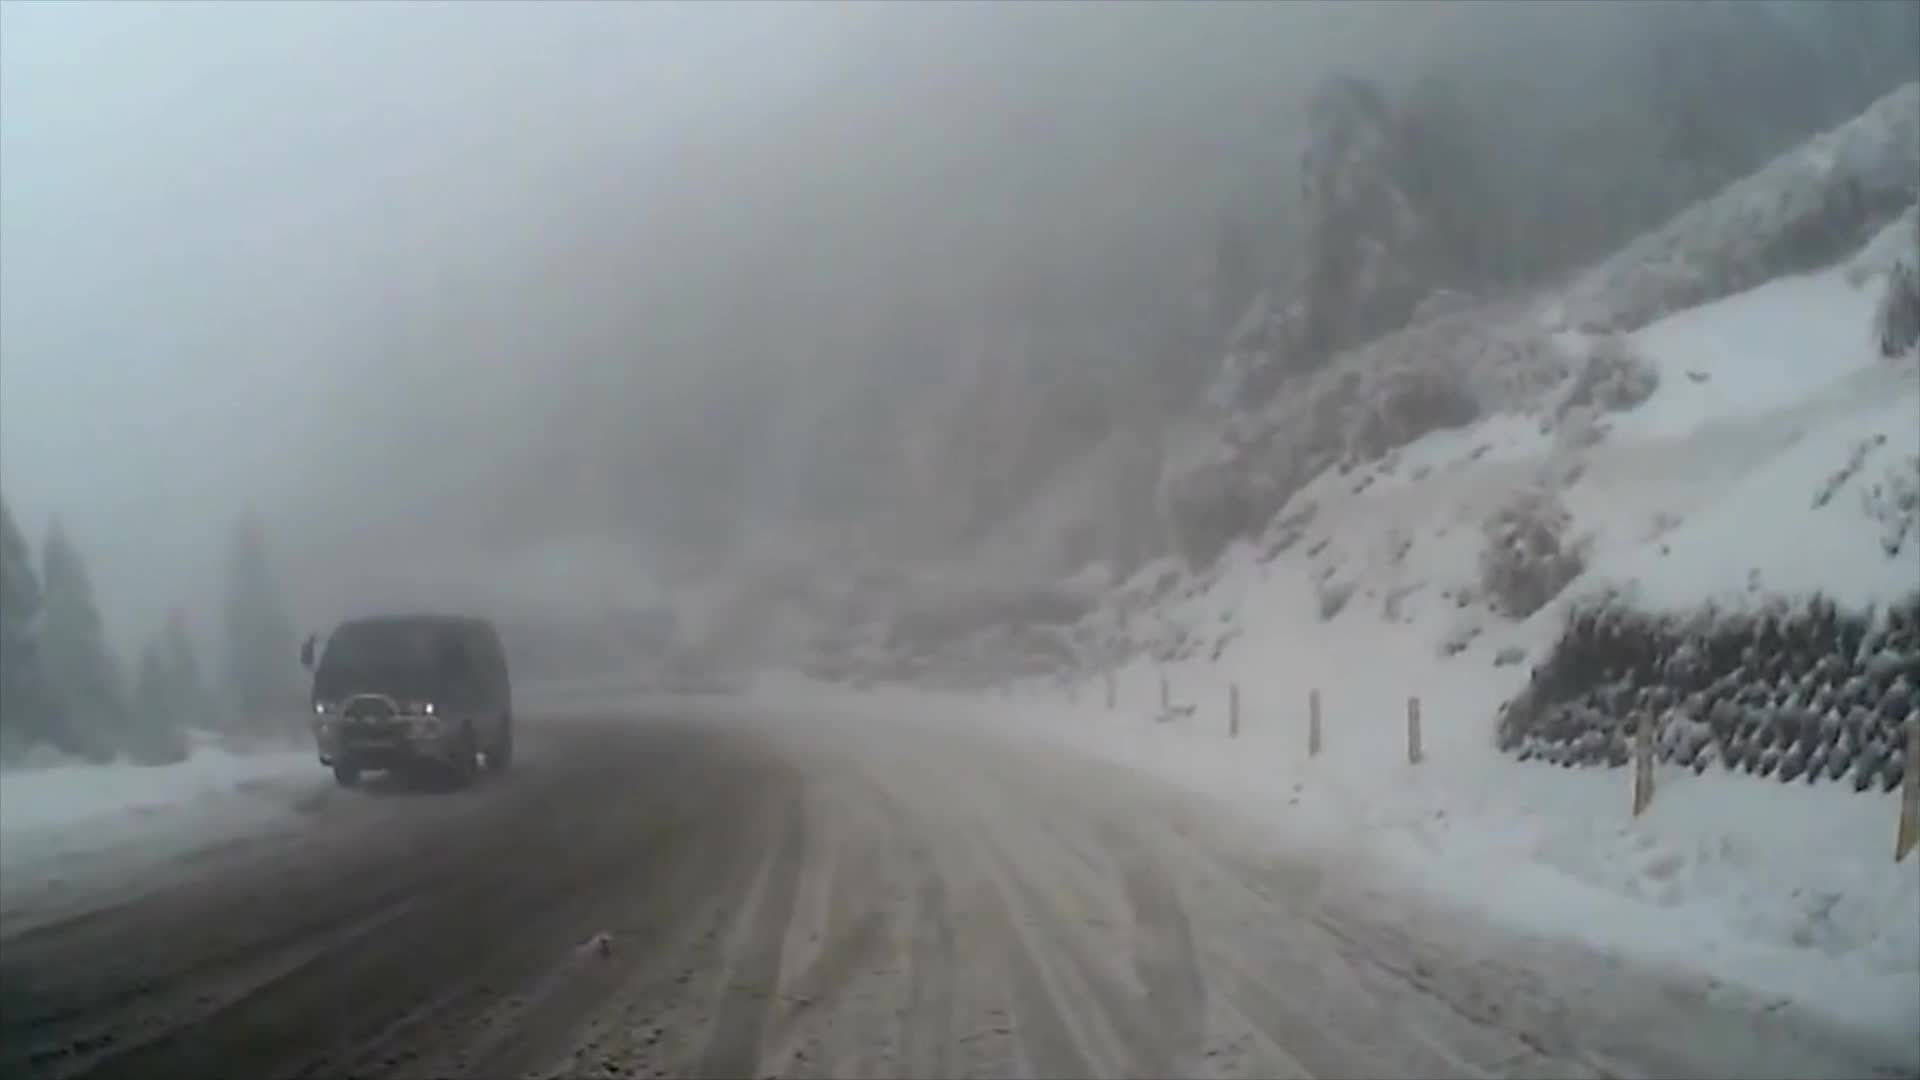vehicle: (299, 612, 517, 791)
